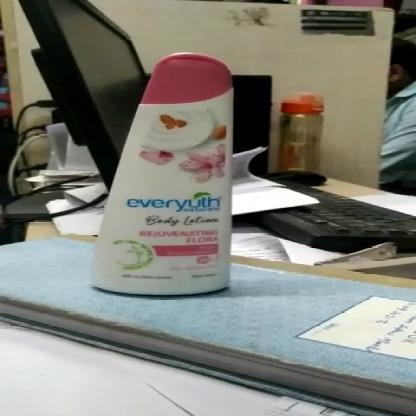Everyuth Naturals Body Lotion Rejuvenating Flora 200ml: (82, 51, 244, 300)
